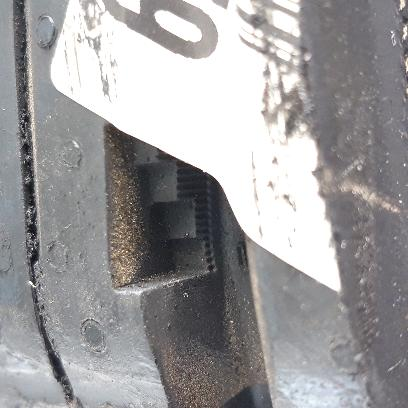temoin:100: (104, 121, 221, 304)
